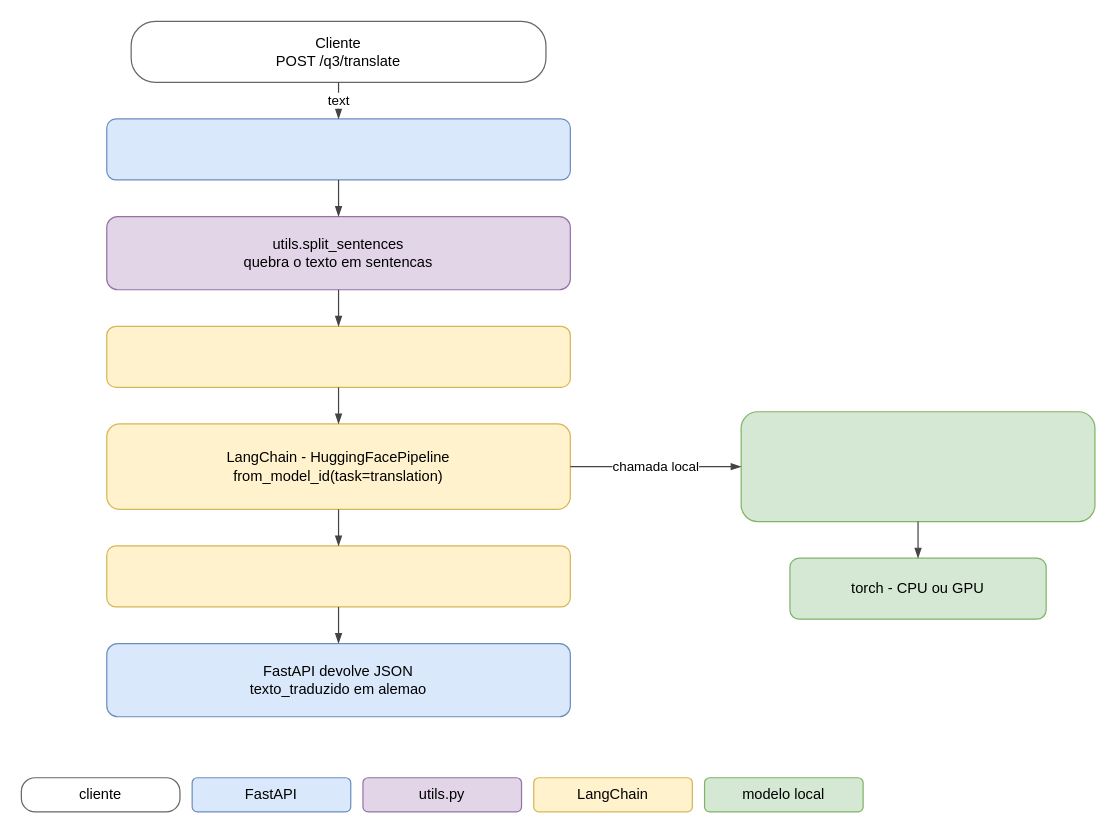
Some shapes in this 1116 by 833 pixel diagram are drawn without their labels. Here are the shapes that lost their labels. From the top down, the centre of each, then its label:
At point 338,149: "FastAPI - parte2.py".
At point 338,356: "LangChain - PromptTemplate {text}".
At point 917,466: "transformers.pipeline MarianMTModel opus-mt-en-de carregado uma vez por processo".
At point 338,576: "LangChain - StrOutputParser".
